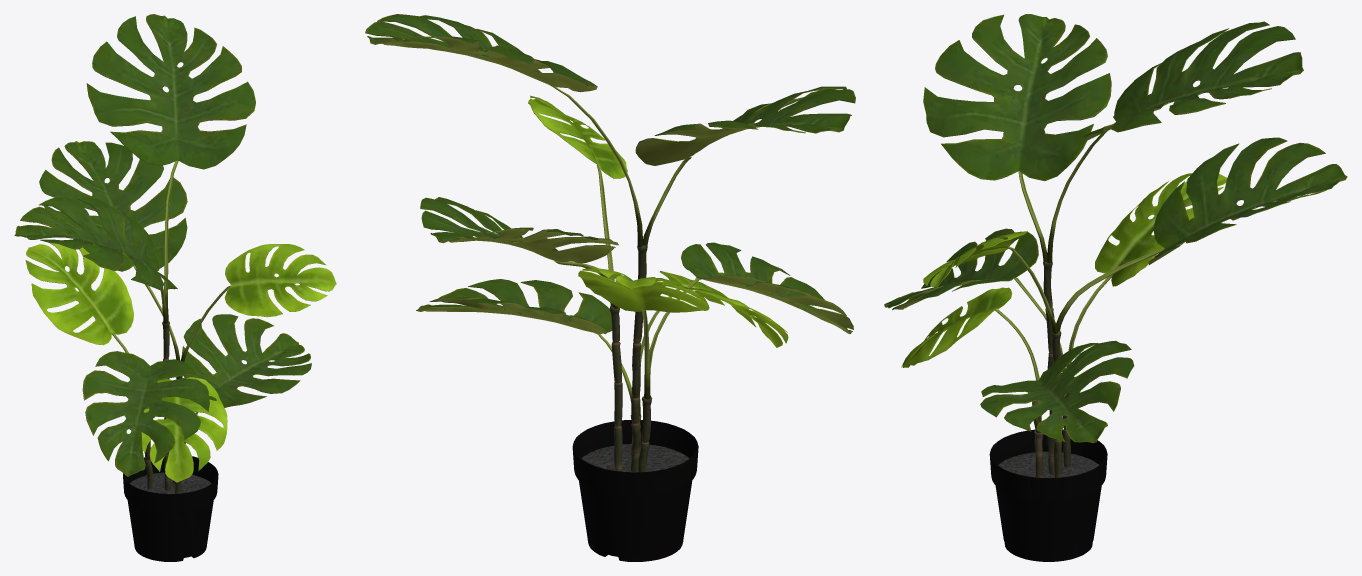
The model's file is LB-PLANT-02.glb.
3 views of the same model, side by side, from view 1: azimuth 30°, elevation 25°; view 2: azimuth 150°, elevation 25°; view 3: azimuth 270°, elevation 25° (orthographic). The views are drawn at different scales.
Parts seen in each view (by area): view 1: 40395293_artificial_potted_plant:5, 40395293_artificial_potted_plant:6, 40395293_artificial_potted_plant:1, 40395293_artificial_potted_plant:4, 40395293_artificial_potted_plant:2, 40395293_artificial_potted_plant:3; view 2: 40395293_artificial_potted_plant:5, 40395293_artificial_potted_plant:1, 40395293_artificial_potted_plant:6, 40395293_artificial_potted_plant:3, 40395293_artificial_potted_plant:4, 40395293_artificial_potted_plant:2; view 3: 40395293_artificial_potted_plant:5, 40395293_artificial_potted_plant:1, 40395293_artificial_potted_plant:6, 40395293_artificial_potted_plant:4, 40395293_artificial_potted_plant:3, 40395293_artificial_potted_plant:2.
Boxes of the visible parts, x1,y1,x2,y2 form: 40395293_artificial_potted_plant:5: [14, 14, 311, 476]; 40395293_artificial_potted_plant:6: [25, 242, 336, 482]; 40395293_artificial_potted_plant:1: [123, 456, 218, 561]; 40395293_artificial_potted_plant:4: [111, 160, 230, 443]; 40395293_artificial_potted_plant:2: [130, 472, 211, 493]; 40395293_artificial_potted_plant:3: [144, 321, 182, 493]; 40395293_artificial_potted_plant:5: [365, 14, 855, 334]; 40395293_artificial_potted_plant:1: [572, 420, 698, 561]; 40395293_artificial_potted_plant:6: [528, 95, 788, 347]; 40395293_artificial_potted_plant:3: [609, 245, 652, 472]; 40395293_artificial_potted_plant:4: [549, 85, 701, 416]; 40395293_artificial_potted_plant:2: [581, 444, 689, 472]; 40395293_artificial_potted_plant:5: [884, 14, 1347, 443]; 40395293_artificial_potted_plant:1: [989, 429, 1107, 561]; 40395293_artificial_potted_plant:6: [901, 173, 1227, 367]; 40395293_artificial_potted_plant:4: [995, 131, 1164, 433]; 40395293_artificial_potted_plant:3: [1034, 261, 1070, 477]; 40395293_artificial_potted_plant:2: [998, 451, 1098, 477].
Bounding box in the file's own units: 0.6948 × 0.963 × 0.7427.
1 material, 1 textured.
